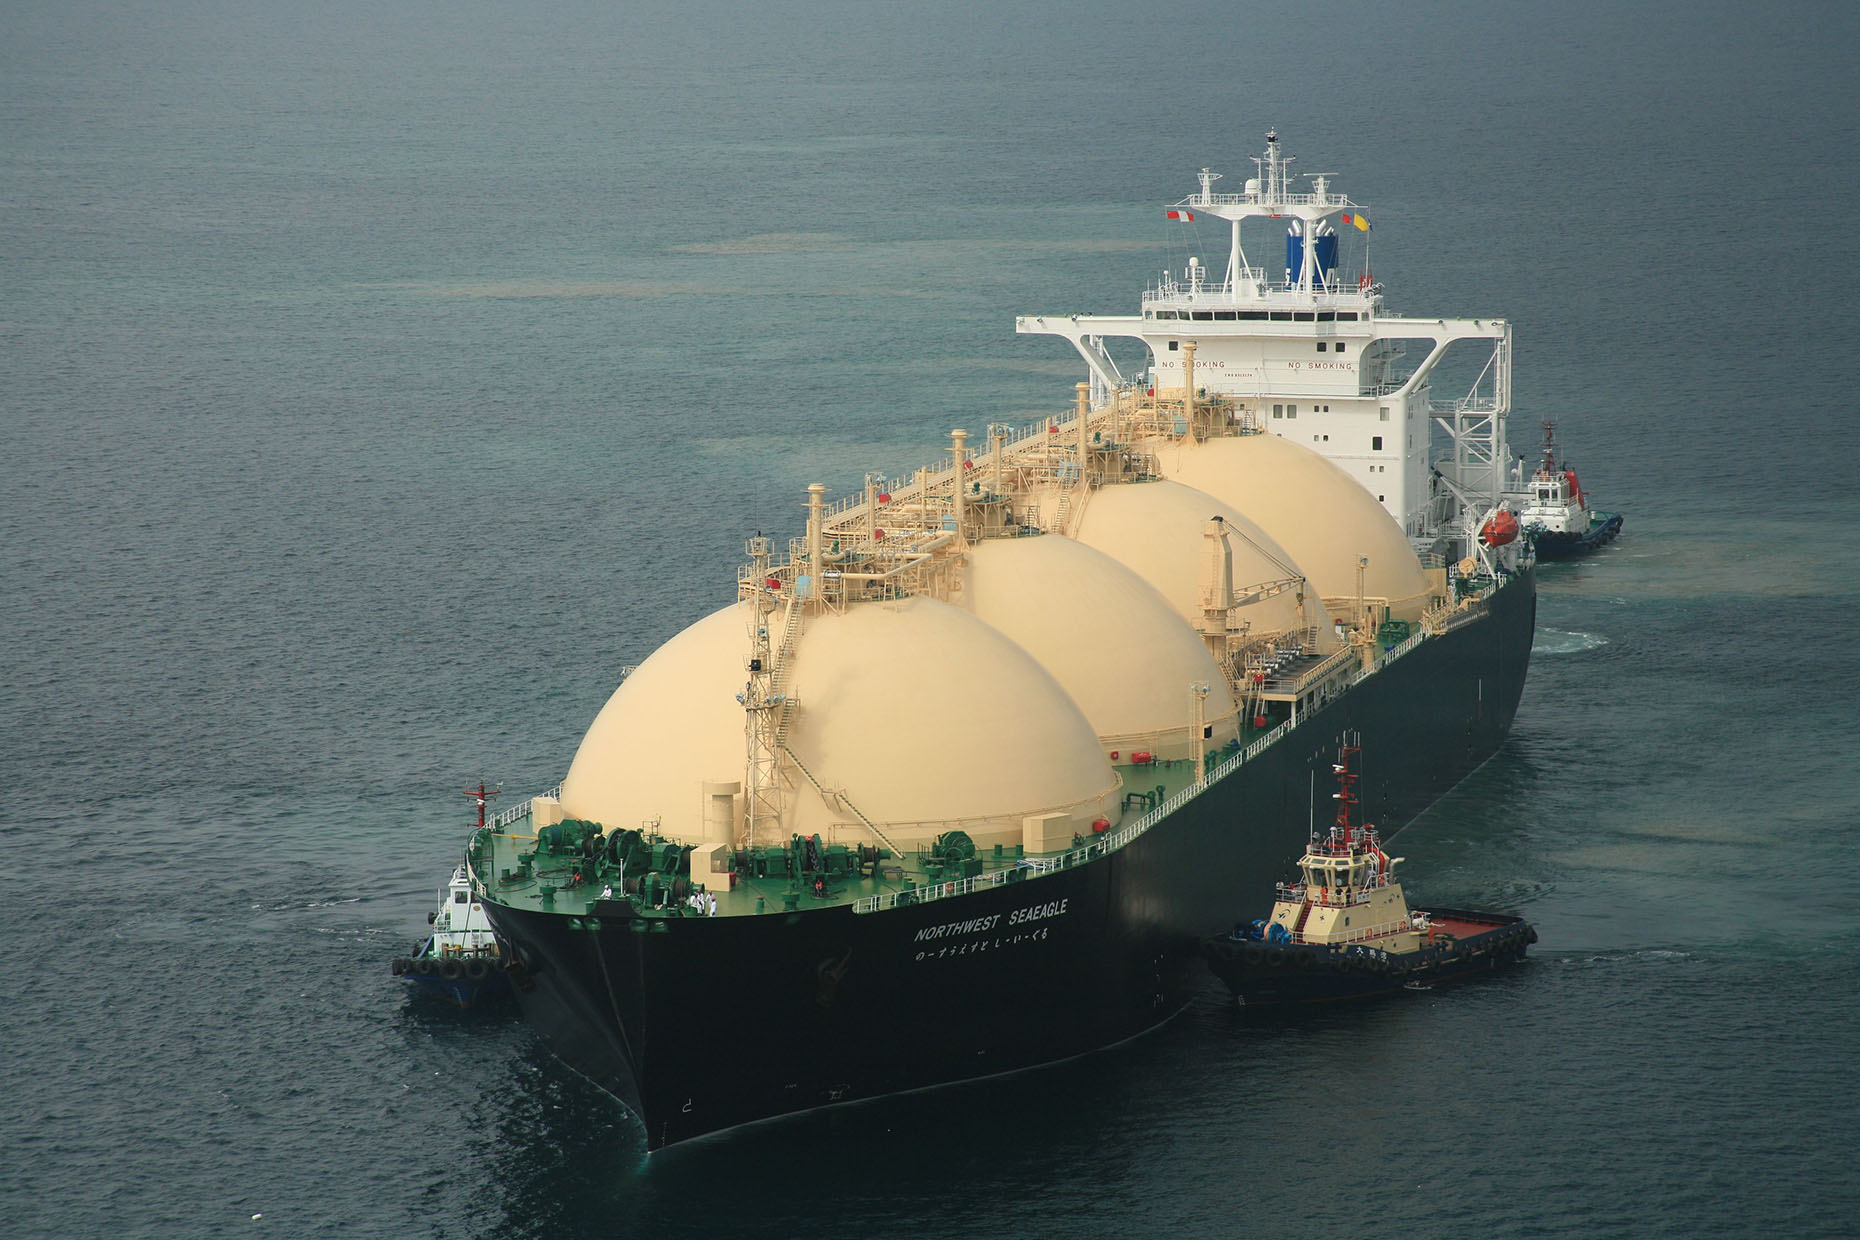Cargoship: (462, 145, 1546, 1198)
otherboat: (1207, 767, 1544, 1028), (385, 771, 538, 1025), (1515, 429, 1623, 565)
